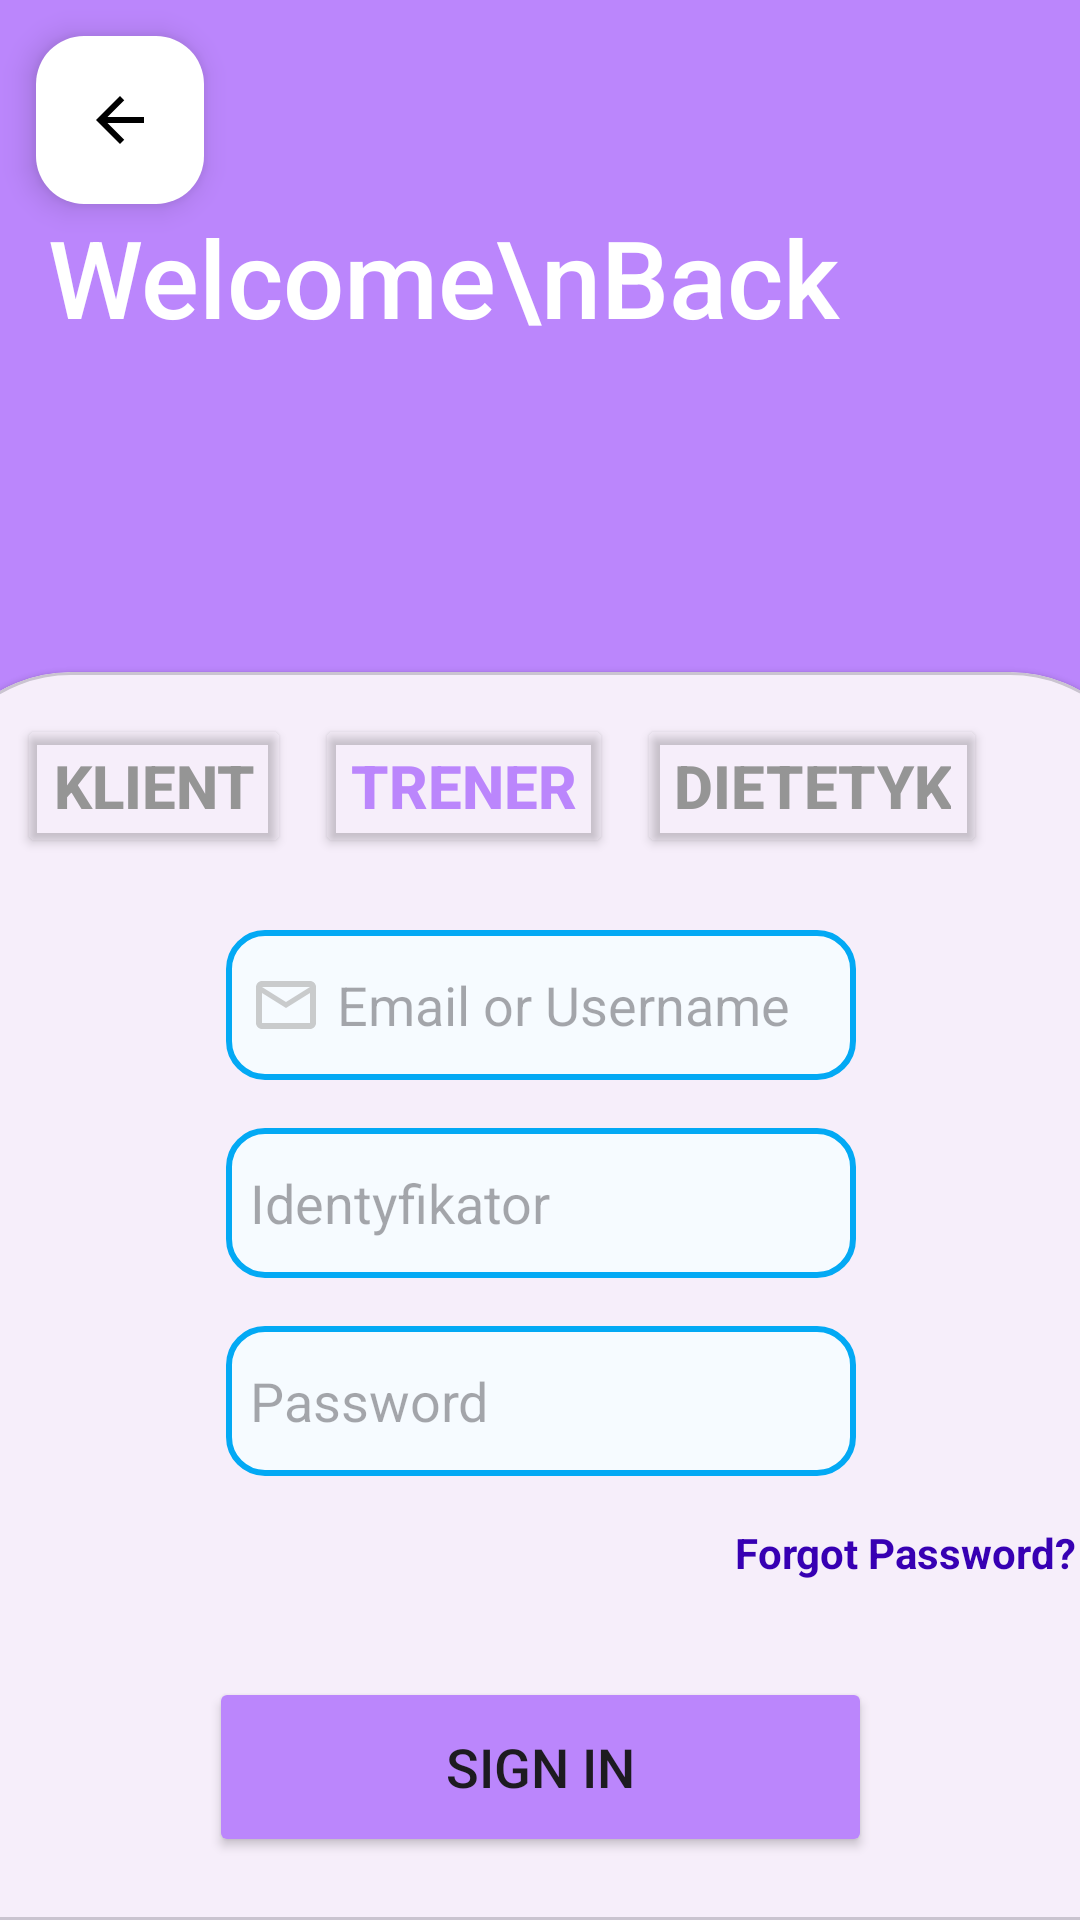

Named icons in this screenshot (1080x1920) and their bounding boxes, (x1, y1, x2, y2):
arrow back: (36, 36, 204, 204)
